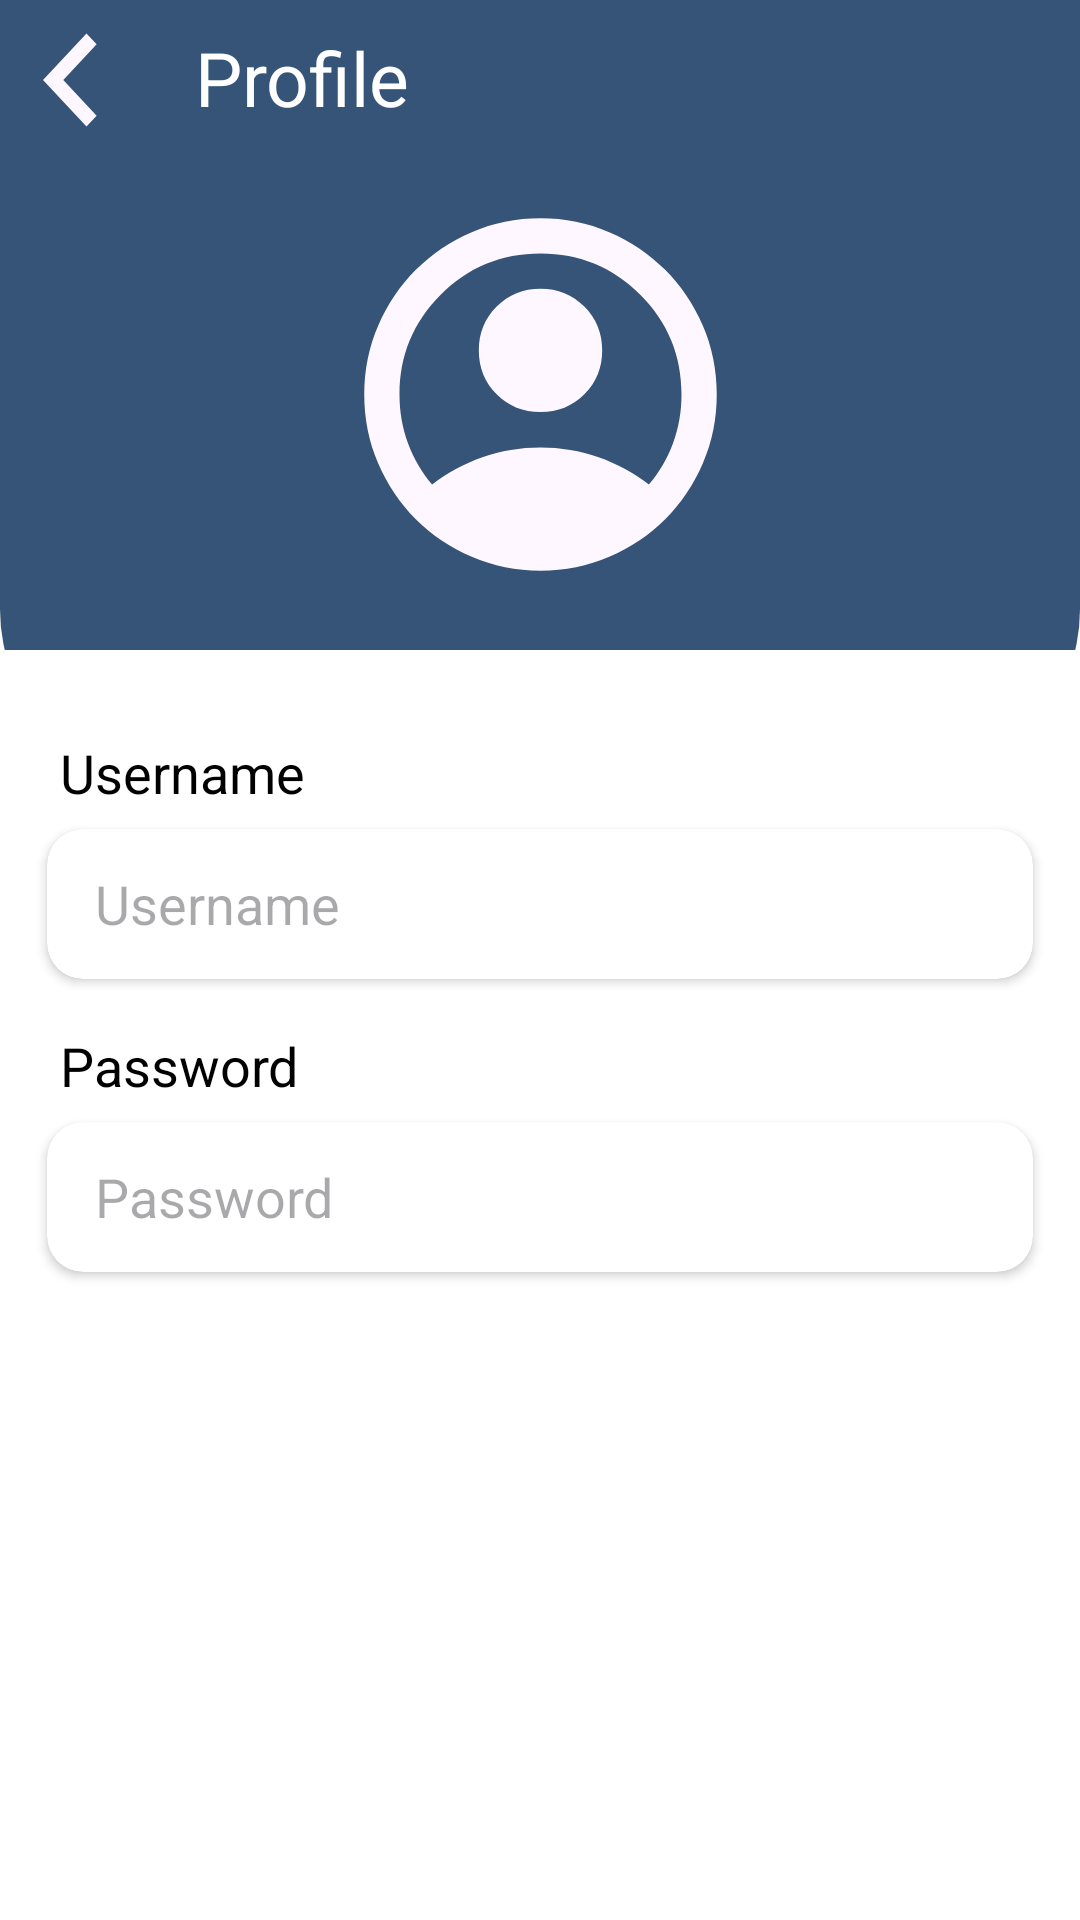

Screen size 1080px×1920px. Icon name, then its center in pixels as (x=x, y=y):
account circle: (x=540, y=394)
